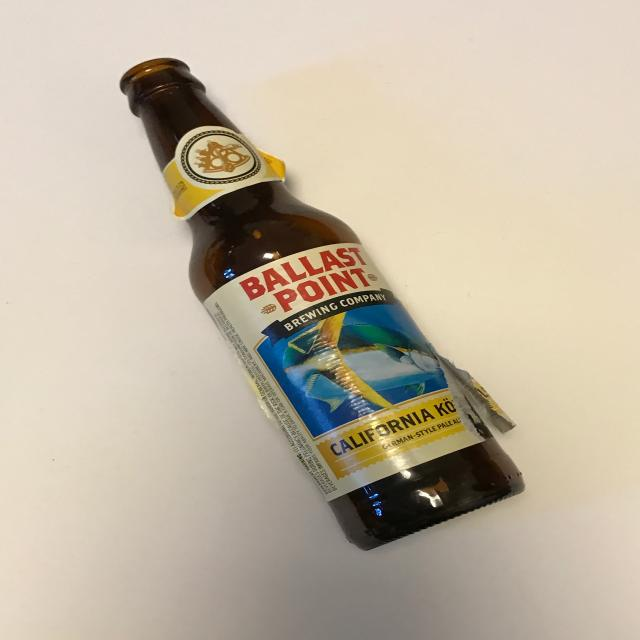Glass: (115, 49, 541, 559)
